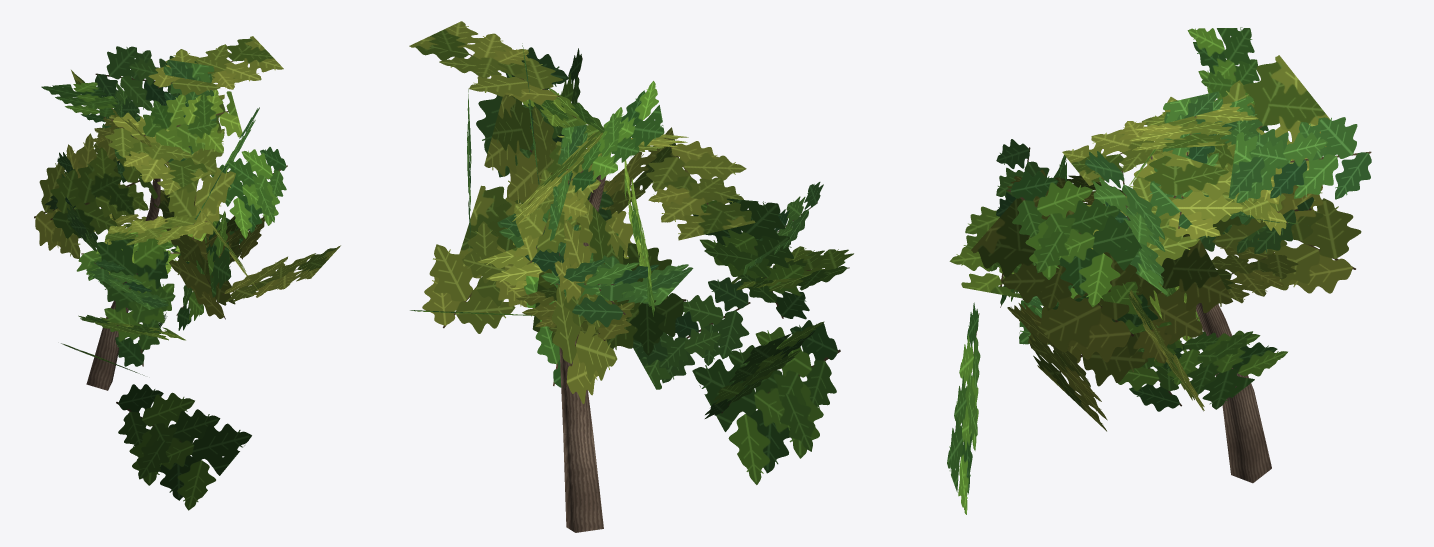
File: hero_oak_b_lod2.obj
3 renders of one model, left to right at view 1: azimuth 30°, elevation 25°; view 2: azimuth 150°, elevation 25°; view 3: azimuth 270°, elevation 25°, orthographic. The views are drawn at different scales.
Visible parts, largest first — view 1: hero_oak_b_lod2; view 2: hero_oak_b_lod2; view 3: hero_oak_b_lod2.
Part boxes in pixels (box(x1,y1,x2,y2)): hero_oak_b_lod2: box(34, 36, 340, 510); hero_oak_b_lod2: box(409, 21, 853, 532); hero_oak_b_lod2: box(947, 27, 1371, 514).
Size of the model in its own units: 10.44 by 13.23 by 11.43.
2 materials, 2 textured.
